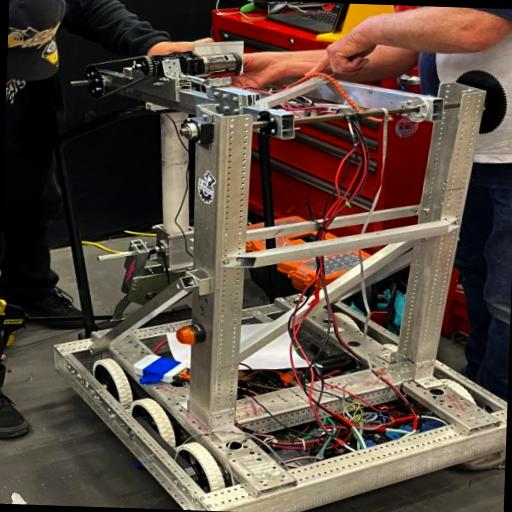robot: (48, 35, 512, 512)
